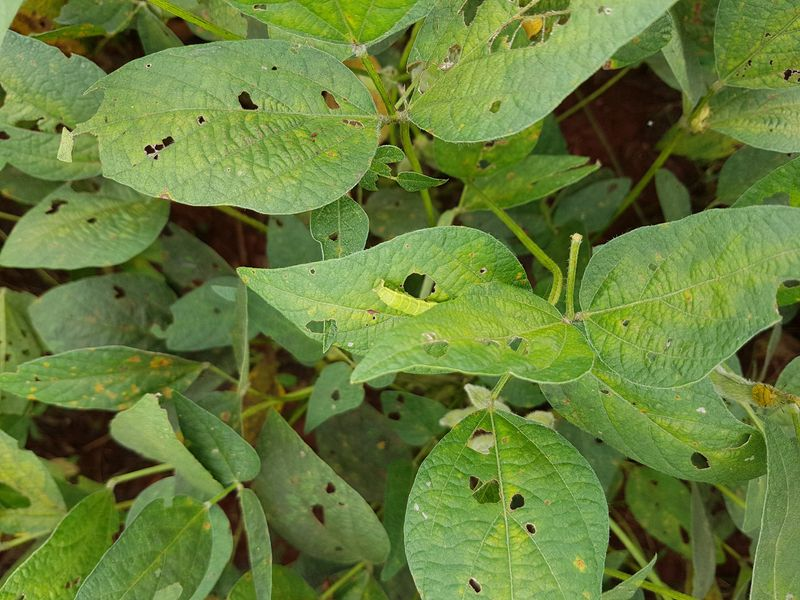Anticarsia_gemmatalis: (364, 273, 455, 330)
Euschistus_heros_ninfa: (746, 377, 792, 419)
